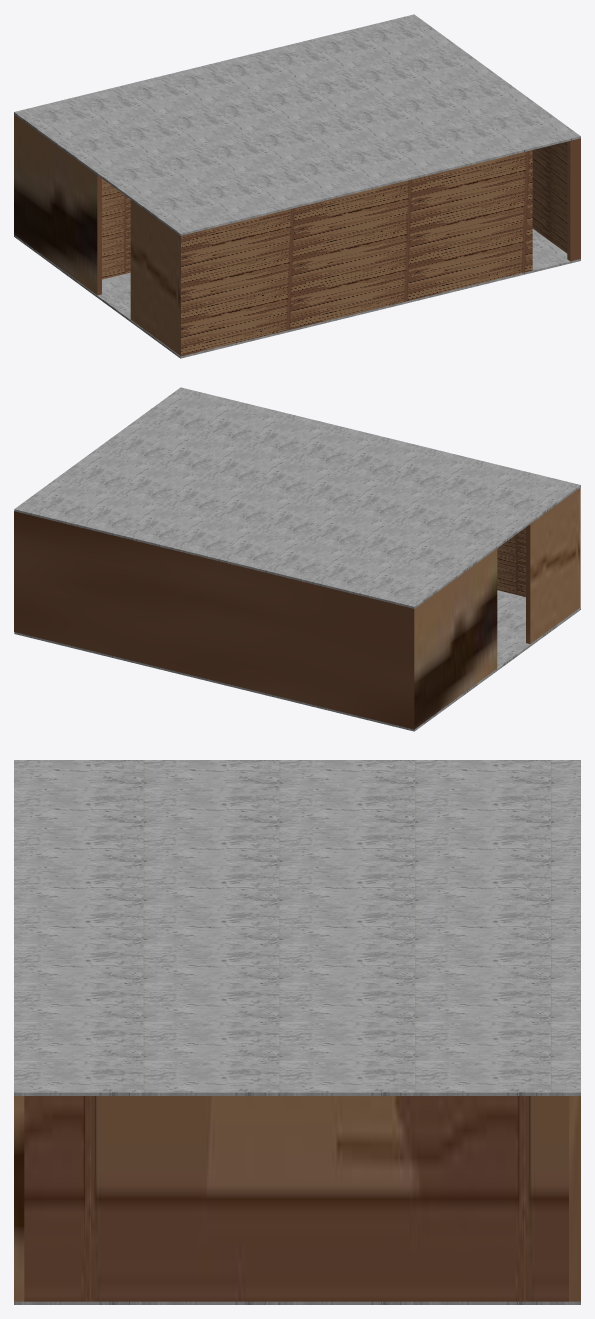
File: PrimerPisoKhras 1.fbx
3 renders of one model, top to bottom at view 1: azimuth 30°, elevation 25°; view 2: azimuth 150°, elevation 25°; view 3: azimuth 270°, elevation 25°, orthographic. The views are drawn at different scales.
Parts seen in each view (by area): view 1: Cube.003, Plane.001, Plane.002; view 2: Cube.003, Plane.001, Plane.002; view 3: Plane.001, Cube.003, Plane.002.
Boxes of the visible parts, x1=… form: Cube.003: x1=14, y1=114, x2=580, y2=356; Plane.001: x1=14, y1=14, x2=580, y2=235; Plane.002: x1=14, y1=229, x2=580, y2=358; Cube.003: x1=14, y1=487, x2=580, y2=729; Plane.001: x1=14, y1=387, x2=580, y2=608; Plane.002: x1=14, y1=590, x2=580, y2=731; Plane.001: x1=14, y1=760, x2=580, y2=1095; Cube.003: x1=14, y1=1096, x2=580, y2=1301; Plane.002: x1=14, y1=1301, x2=580, y2=1304.
Bounding box in the file's own units: 13.94 × 4.15 × 10.04.
2 materials, 2 textured.
